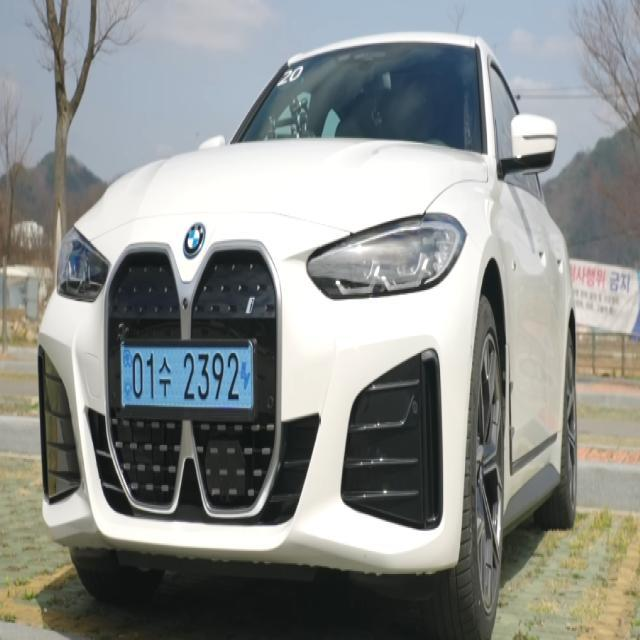car: (107, 326, 280, 425)
carev: (239, 342, 255, 412), (118, 341, 133, 409)
